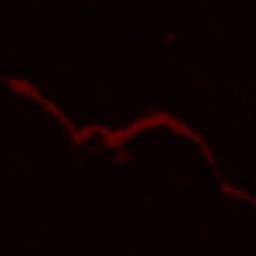debris: (128, 114, 173, 128), (3, 77, 36, 94), (225, 185, 254, 202), (175, 118, 198, 139), (104, 129, 129, 147), (198, 138, 213, 162), (209, 167, 224, 188), (37, 93, 54, 111), (57, 109, 72, 129), (82, 123, 107, 135), (72, 125, 87, 144), (115, 149, 131, 161)
